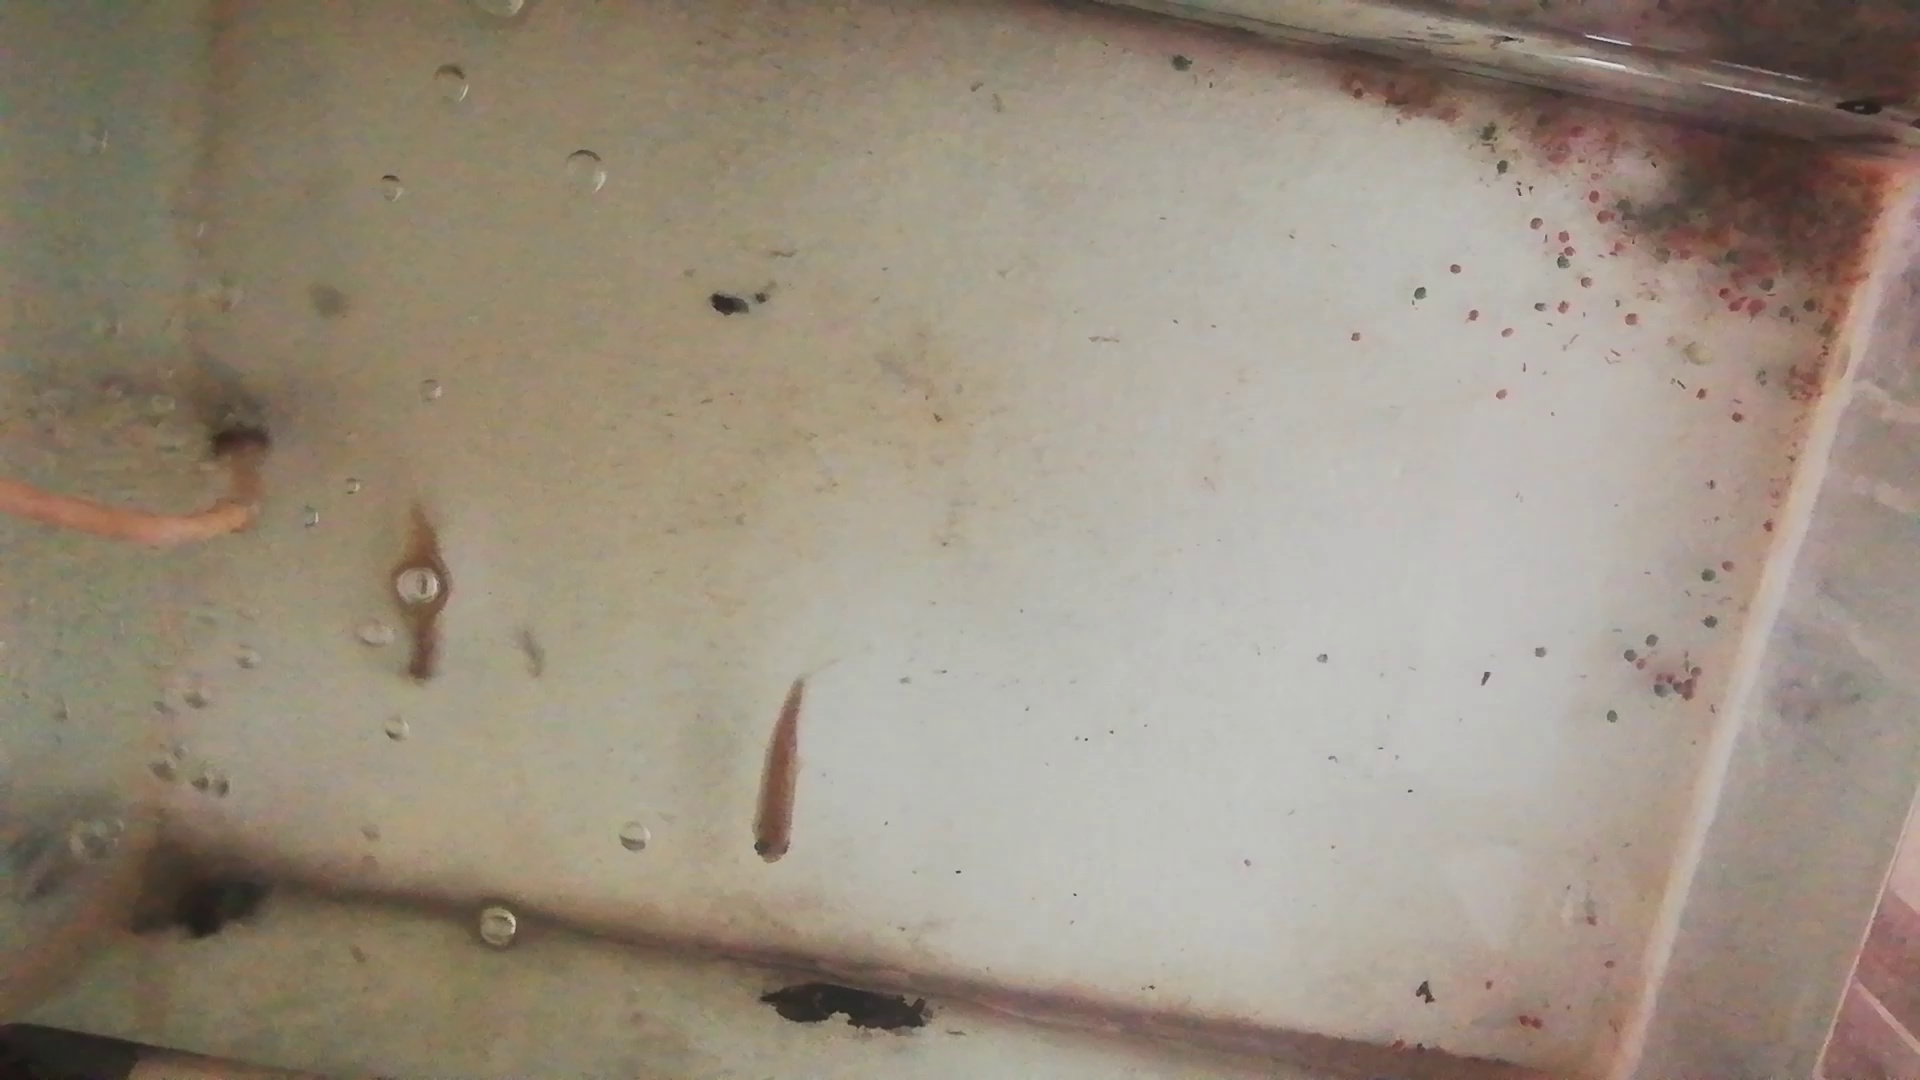fish: (390, 501, 452, 694), (746, 680, 810, 868)
